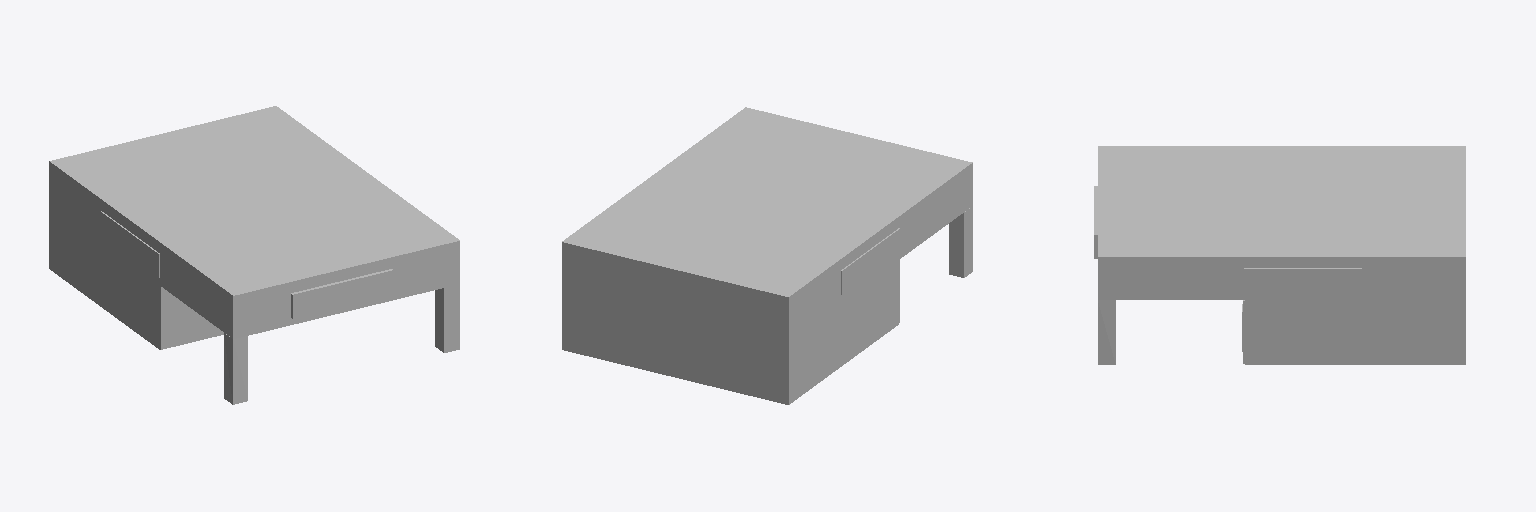
Rendered from The Moth.obj.
The picture shows the model from 3 angles: view 1: azimuth 30°, elevation 25°; view 2: azimuth 150°, elevation 25°; view 3: azimuth 270°, elevation 25°; orthographic projection.
Visible parts, largest first — view 1: Tavern, Sign, Glass_Window; view 2: Tavern, Sign; view 3: Tavern, Sign.
Part boxes in pixels (left/top/right/bottom): Tavern: left=49, top=106, right=459, bottom=404; Sign: left=100, top=211, right=393, bottom=318; Glass_Window: left=160, top=286, right=223, bottom=349; Tavern: left=562, top=107, right=972, bottom=404; Sign: left=841, top=228, right=900, bottom=294; Tavern: left=1098, top=146, right=1465, bottom=364; Sign: left=1094, top=186, right=1361, bottom=292.
Bounding box in the file's own units: 14.77 × 6.68 × 20.68.